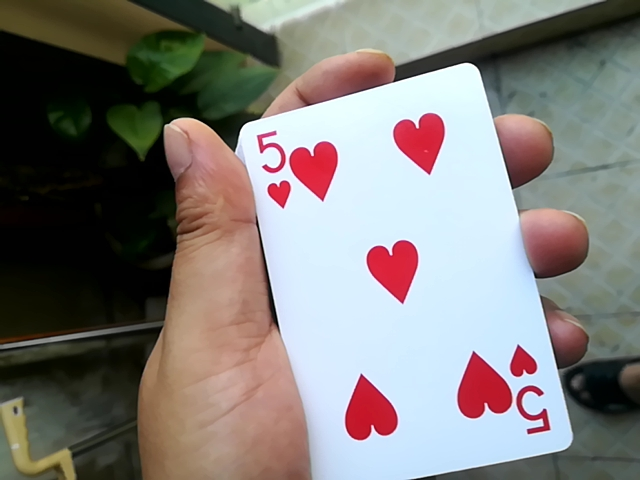hx 5: (228, 71, 573, 467)
